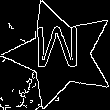M_S: (36, 29, 85, 80)
